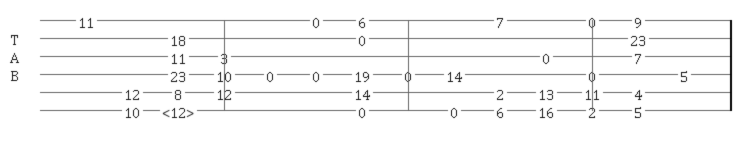0: (266, 67, 278, 81), (312, 13, 324, 27), (312, 67, 324, 81), (358, 31, 370, 45), (358, 103, 370, 117), (404, 67, 416, 81), (450, 103, 462, 117), (542, 49, 554, 63), (588, 13, 600, 27), (588, 67, 600, 81)
10: (124, 103, 144, 117), (216, 67, 236, 81)
11: (78, 13, 98, 27), (170, 49, 190, 63), (584, 85, 604, 99)
12: (124, 85, 144, 99), (216, 85, 236, 99)
13: (538, 85, 558, 99)
14: (354, 85, 374, 99), (446, 67, 466, 81)
16: (538, 103, 558, 117)
18: (170, 31, 190, 45)
19: (354, 67, 374, 81)
2: (496, 85, 508, 99), (588, 103, 600, 117)
23: (170, 67, 190, 81), (630, 31, 650, 45)
3: (220, 49, 232, 63)
4: (634, 85, 646, 99)
5: (634, 103, 646, 118), (680, 67, 692, 82)
6: (358, 13, 370, 27), (496, 103, 508, 117)
7: (496, 13, 508, 27), (634, 49, 646, 63)
8: (174, 85, 186, 99)
9: (634, 13, 646, 27)
harmonic: (162, 103, 198, 117)
